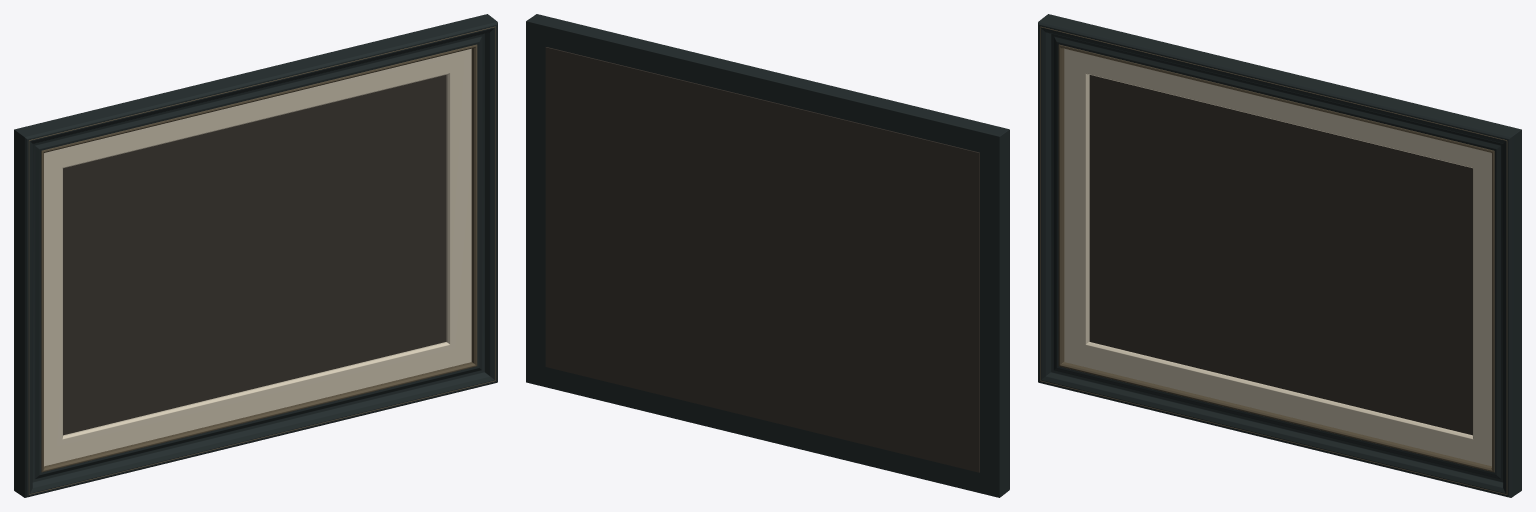
File: dark-frame-only.glb
3 renders of one model, left to right at view 1: azimuth 30°, elevation 25°; view 2: azimuth 150°, elevation 25°; view 3: azimuth 330°, elevation 25°, orthographic.
Parts seen in each view (by area): view 1: Rigid backing panel, Walnut stepped miter frame, Linen mat with beveled opening, Brass inner fillet, Brass outer pinstripe; view 2: Rigid backing panel, Walnut stepped miter frame; view 3: Rigid backing panel, Walnut stepped miter frame, Linen mat with beveled opening, Brass inner fillet, Brass outer pinstripe.
Boxes of the visible parts, x1,y1,x2,y2 form: Rigid backing panel: (63,75,446,435); Walnut stepped miter frame: (14,14,497,497); Linen mat with beveled opening: (44,48,471,466); Brass inner fillet: (41,44,477,472); Brass outer pinstripe: (28,26,495,494); Rigid backing panel: (545,47,979,472); Walnut stepped miter frame: (526,14,1009,497); Rigid backing panel: (1089,75,1472,435); Walnut stepped miter frame: (1038,14,1521,497); Linen mat with beveled opening: (1064,48,1491,466); Brass inner fillet: (1058,44,1494,472); Brass outer pinstripe: (1040,26,1507,494).
Size of the model in its own units: 1.85 by 1.35 by 0.082.
